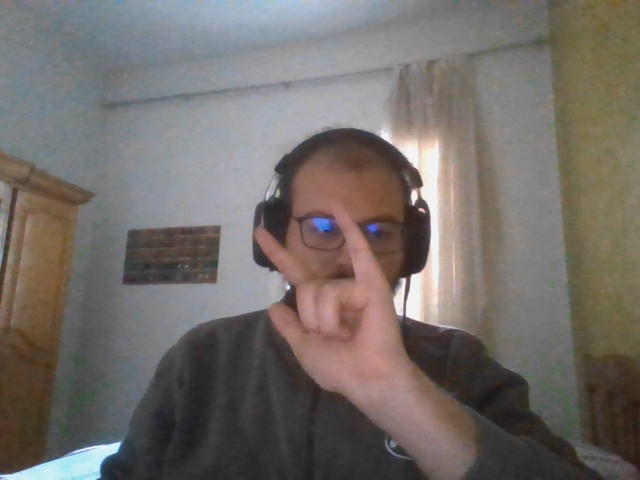I Love You: (257, 214, 396, 390)
